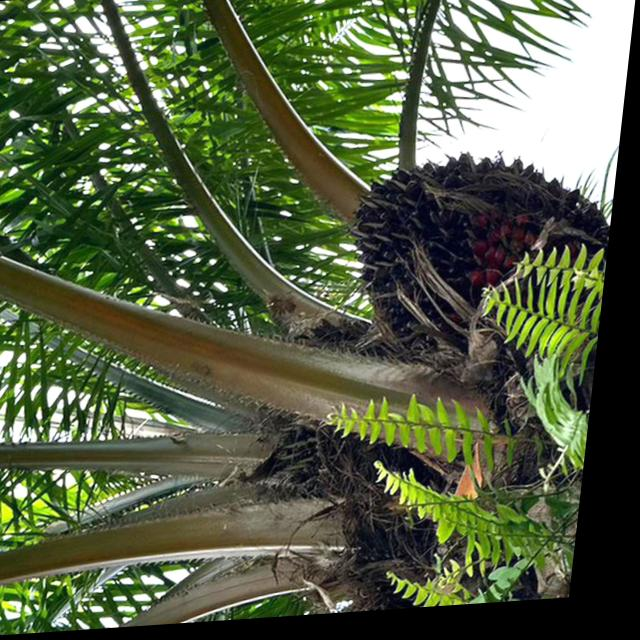ripe: (340, 136, 618, 358)
